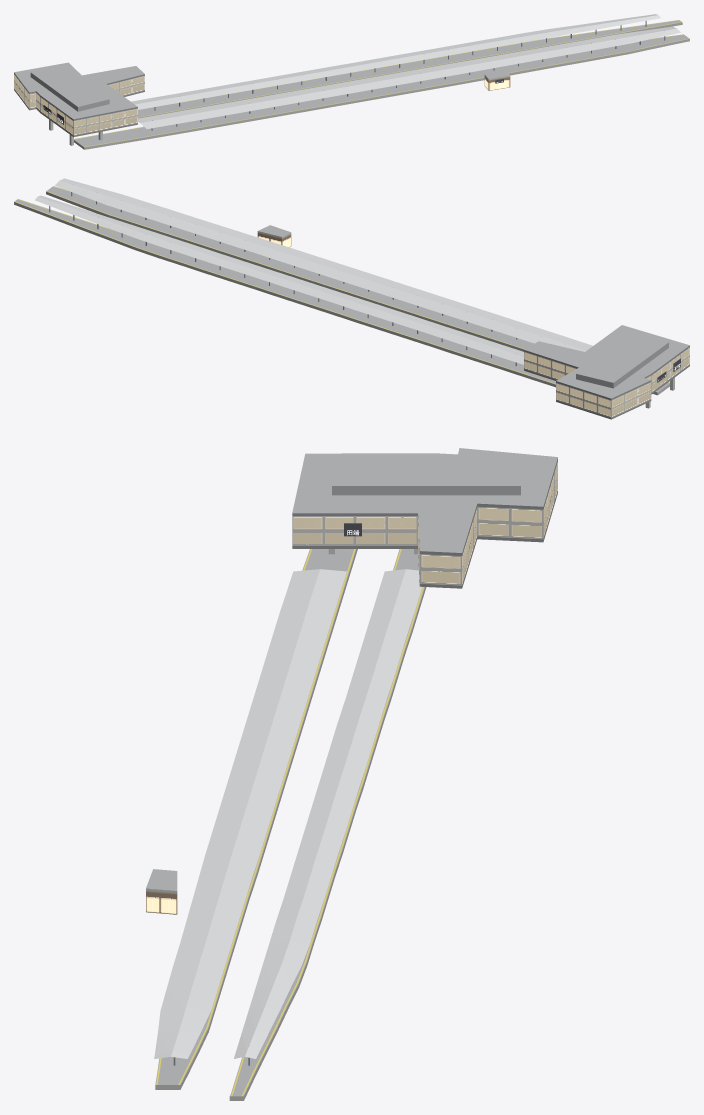
File: tabata_station.glb
The picture shows the model from 3 angles, top to bottom: view 1: azimuth 30°, elevation 25°; view 2: azimuth 150°, elevation 25°; view 3: azimuth 270°, elevation 25°; orthographic projection. The views are drawn at different scales.
Visible parts, largest first — view 1: TA_Station; view 2: TA_Station; view 3: TA_Station.
Part boxes in pixels (x1,y1,x2,y2): TA_Station: [14, 14, 689, 149]; TA_Station: [14, 178, 689, 419]; TA_Station: [146, 448, 557, 1100].
Bounding box in the file's own units: 262 × 17 × 78.6.
11 materials, 2 textured.
